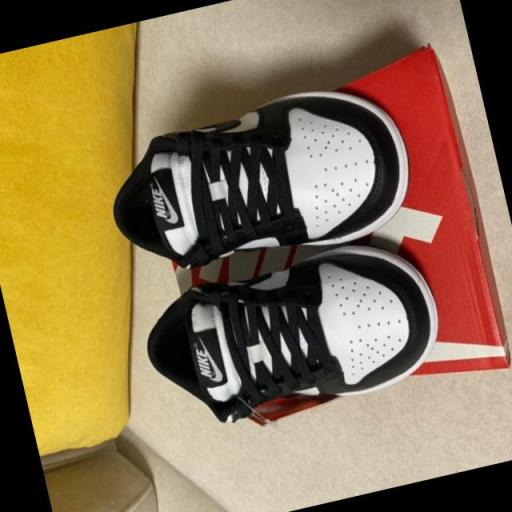Nike: (203, 343, 225, 384), (150, 185, 168, 219)
